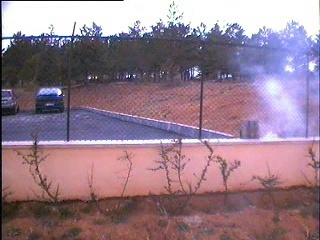smoke: (238, 15, 319, 139)
